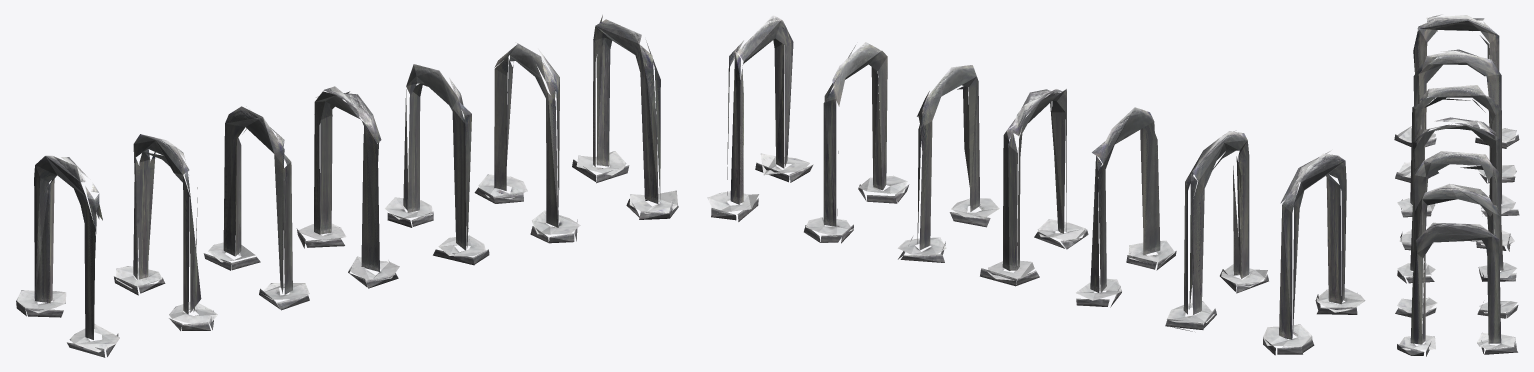
Rendered from cycle_stand.glb.
3 views of the same model, side by side, from view 1: azimuth 30°, elevation 25°; view 2: azimuth 150°, elevation 25°; view 3: azimuth 270°, elevation 25° (orthographic). The views are drawn at different scales.
Parts seen in each view (by area): view 1: world.625; view 2: world.625; view 3: world.625.
Boxes of the visible parts, x1,y1,x2,y2 form: world.625: (16,15,678,357); world.625: (707,15,1365,355); world.625: (1394,14,1519,356).
Size of the model in its own units: 1.01 by 0.277 by 0.2375.
Materials: 1 (1 with a texture image).
